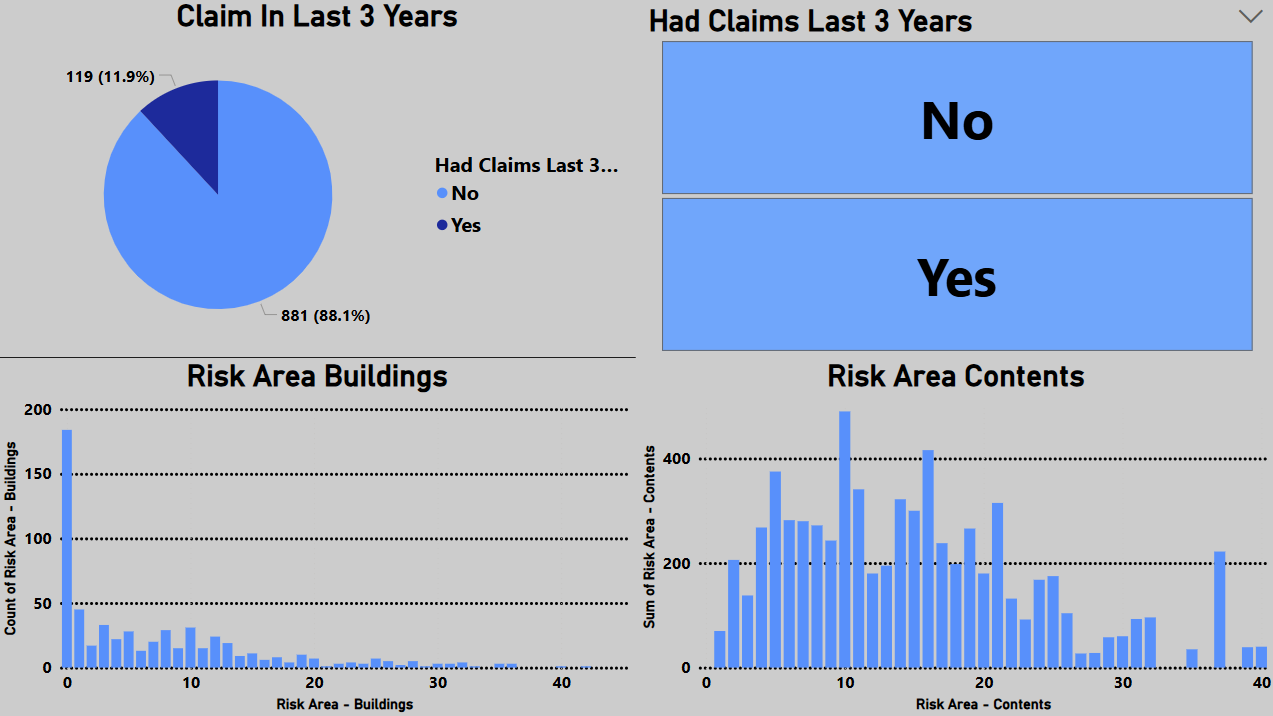

Layout of this report page (visuals, bound fields, positions):
{"tool":"powerbi","page":{"name":"CLAIMS & RISK AREA","canvas":[1280,720],"ordinal":2},"visuals":[{"type":"pieChart","title":"Claim In Last 3 Years","fields":{"Category":["sql_cleaned_home_insurance.Had Claims Last 3 Years"],"Y":["CountNonNull(sql_cleaned_home_insurance.Had Claims Last 3 Years)"]},"box":[0,0,640.5,359.7],"z":0},{"type":"slicer","title":"Live Policy Count","fields":{"Values":["sql_cleaned_home_insurance.Had Claims Last 3 Years"]},"box":[638.8,0,640.5,359.7],"z":1000},{"type":"clusteredColumnChart","title":"Risk Area Buildings","fields":{"Y":["CountNonNull(sql_cleaned_home_insurance.Risk Area - Buildings)"],"Category":["sql_cleaned_home_insurance.Risk Area - Buildings"]},"box":[0,359.7,640.5,359.7],"z":2000},{"type":"clusteredColumnChart","title":"Risk Area Contents","fields":{"Y":["Sum(sql_cleaned_home_insurance.Risk Area - Contents)"],"Category":["sql_cleaned_home_insurance.Risk Area - Contents"]},"box":[638.8,359.7,640.5,359.7],"z":3000}]}

Visuals, with their boxes in screenshot pixels (x1, y1, x2, y2), scaled from the page's 1280x720 canvas onto the 1273x716 screenshot:
"Claim In Last 3 Years" pieChart: [left=0, top=0, right=637, bottom=358]
"Live Policy Count" slicer: [left=635, top=0, right=1272, bottom=358]
"Risk Area Buildings" clusteredColumnChart: [left=0, top=358, right=637, bottom=715]
"Risk Area Contents" clusteredColumnChart: [left=635, top=358, right=1272, bottom=715]
